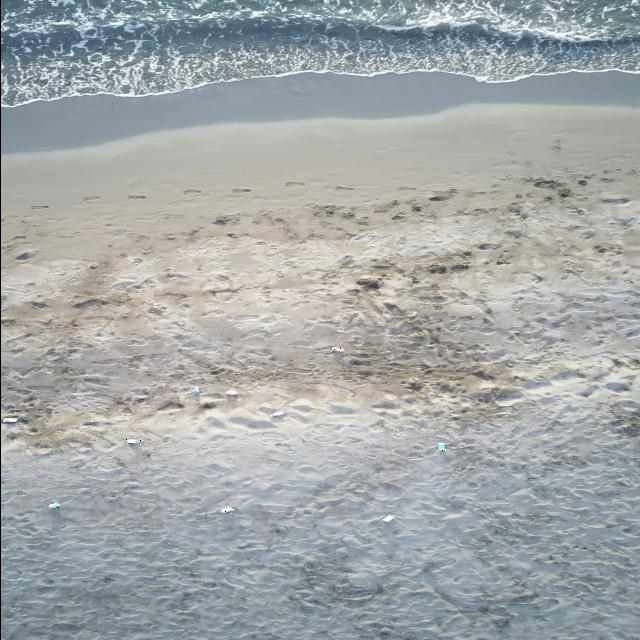Garbage: (355, 278, 382, 288), (199, 395, 218, 407), (604, 196, 630, 204), (220, 504, 235, 512), (125, 437, 140, 444), (382, 515, 395, 522), (227, 388, 238, 396), (2, 416, 16, 422), (437, 443, 446, 452), (48, 502, 60, 508), (332, 346, 343, 352), (191, 386, 200, 392), (271, 413, 284, 417)
